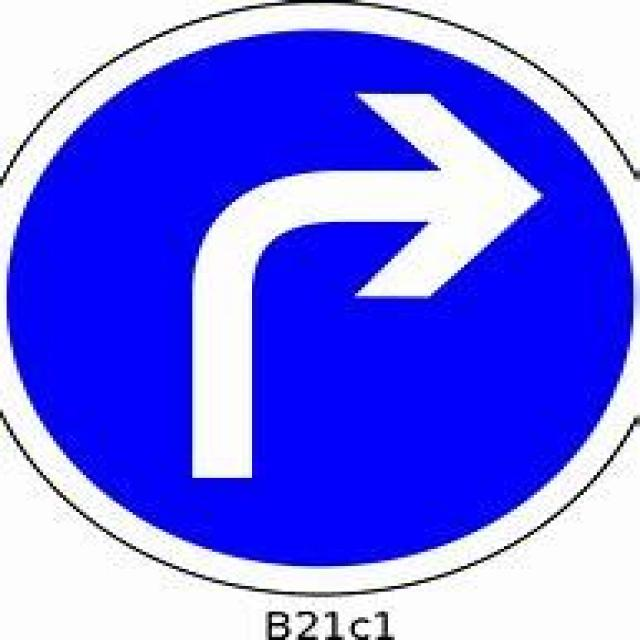COMPULSARY_TURN_RIGHT_AHEAD: (0, 0, 640, 597)
